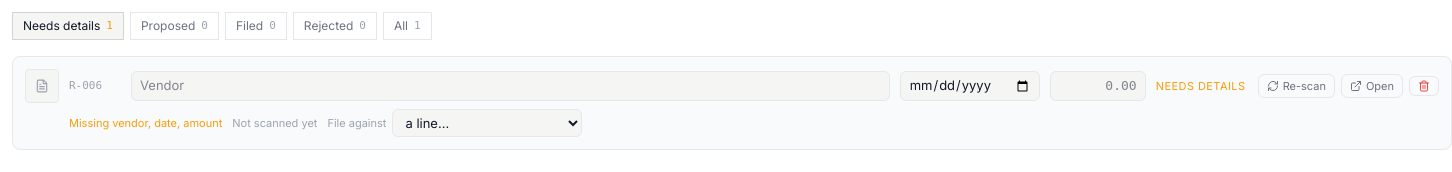
Scenario: re-scan reuses the one seam › a second failure reports it and keeps the receipt
Click the button with test id "receipt-retry" at [1296, 86], box [1258,74,1335,98]
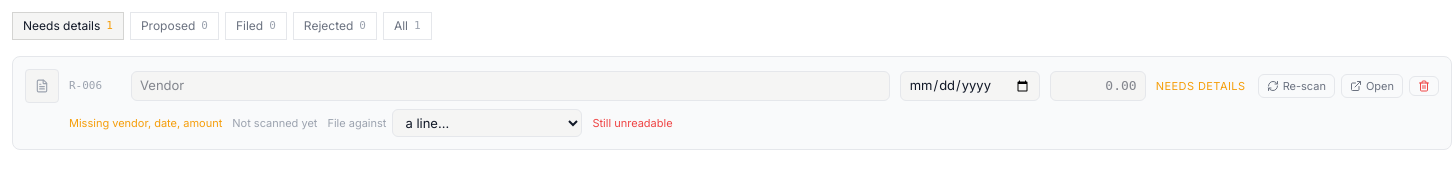
expect the number of list items with test id "receipt-row" is 1: met, box [12,56,1451,150]
expect the message reads "Still unreadable": met, box [592,116,672,130]
